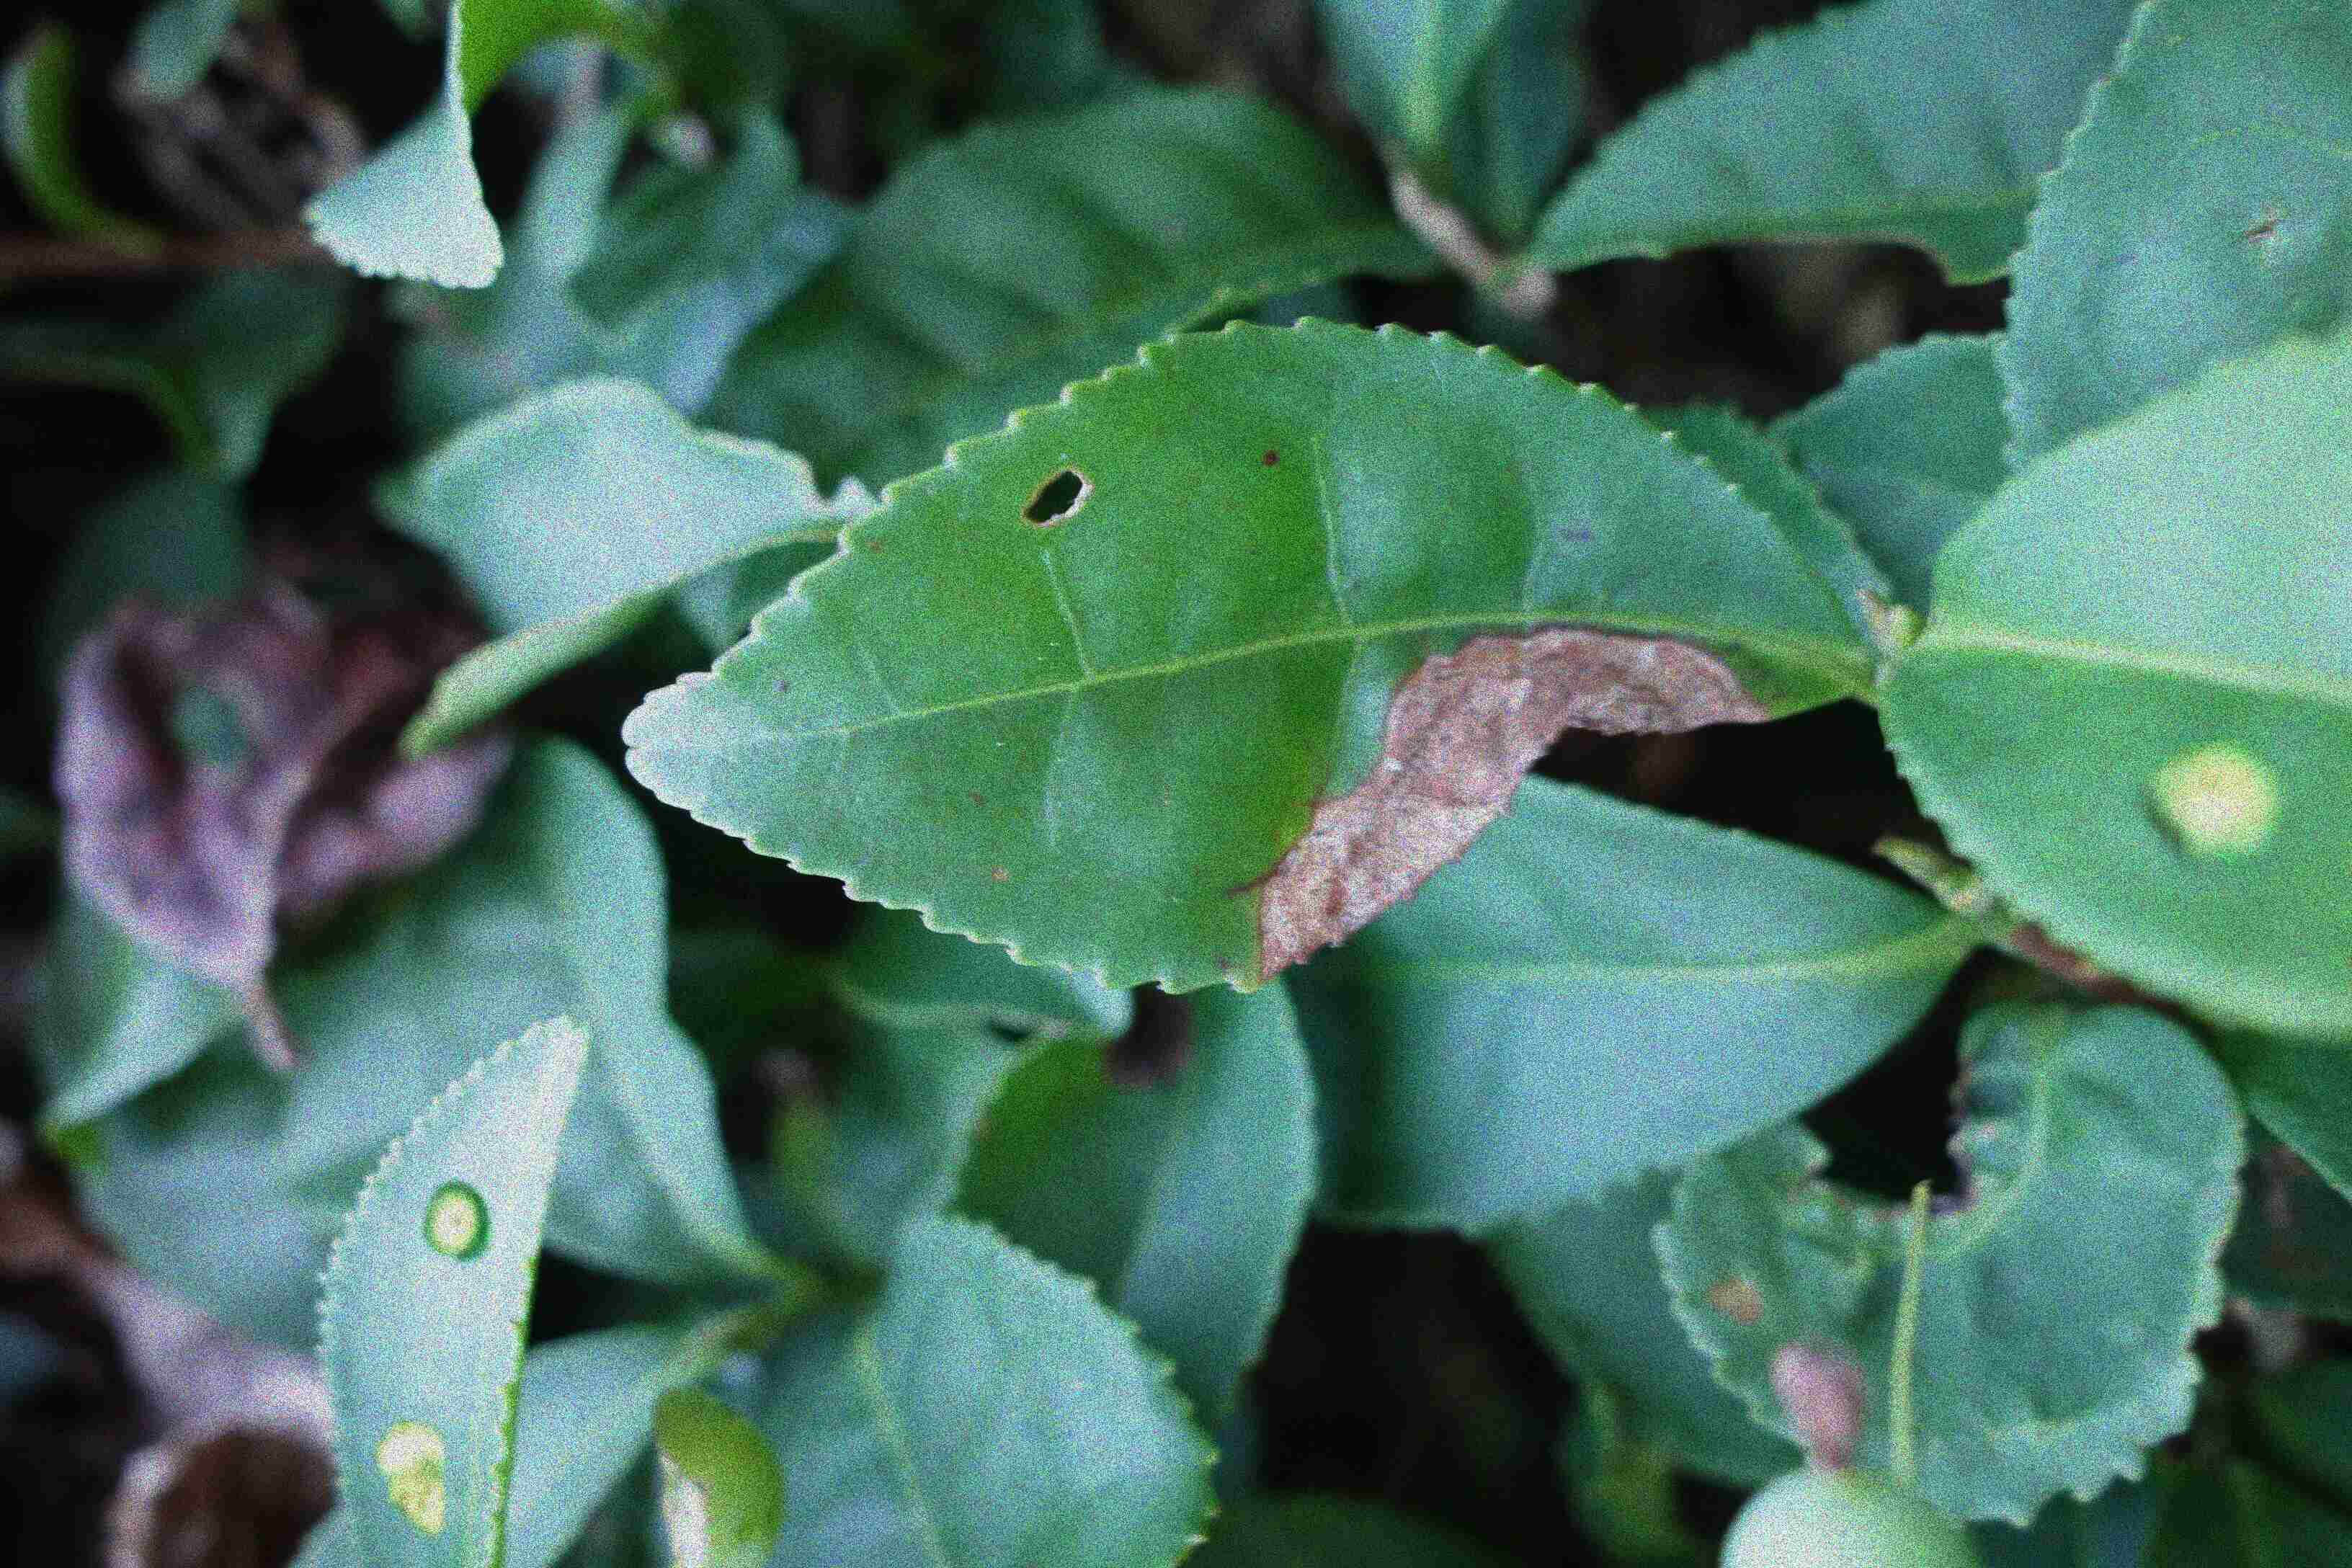chabing_high: (313, 1020, 588, 1563)
chabing_low: (1890, 334, 2348, 1029)
chihuo_high: (1657, 1001, 2254, 1536)
tanju_high: (621, 310, 1871, 992)
